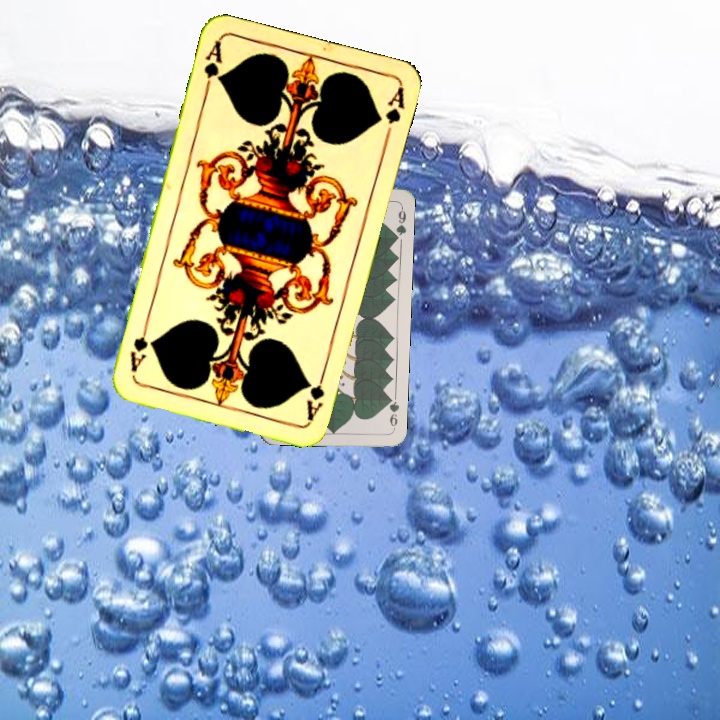G9: (383, 392, 402, 433)
GA: (302, 365, 329, 423), (200, 37, 226, 96)
